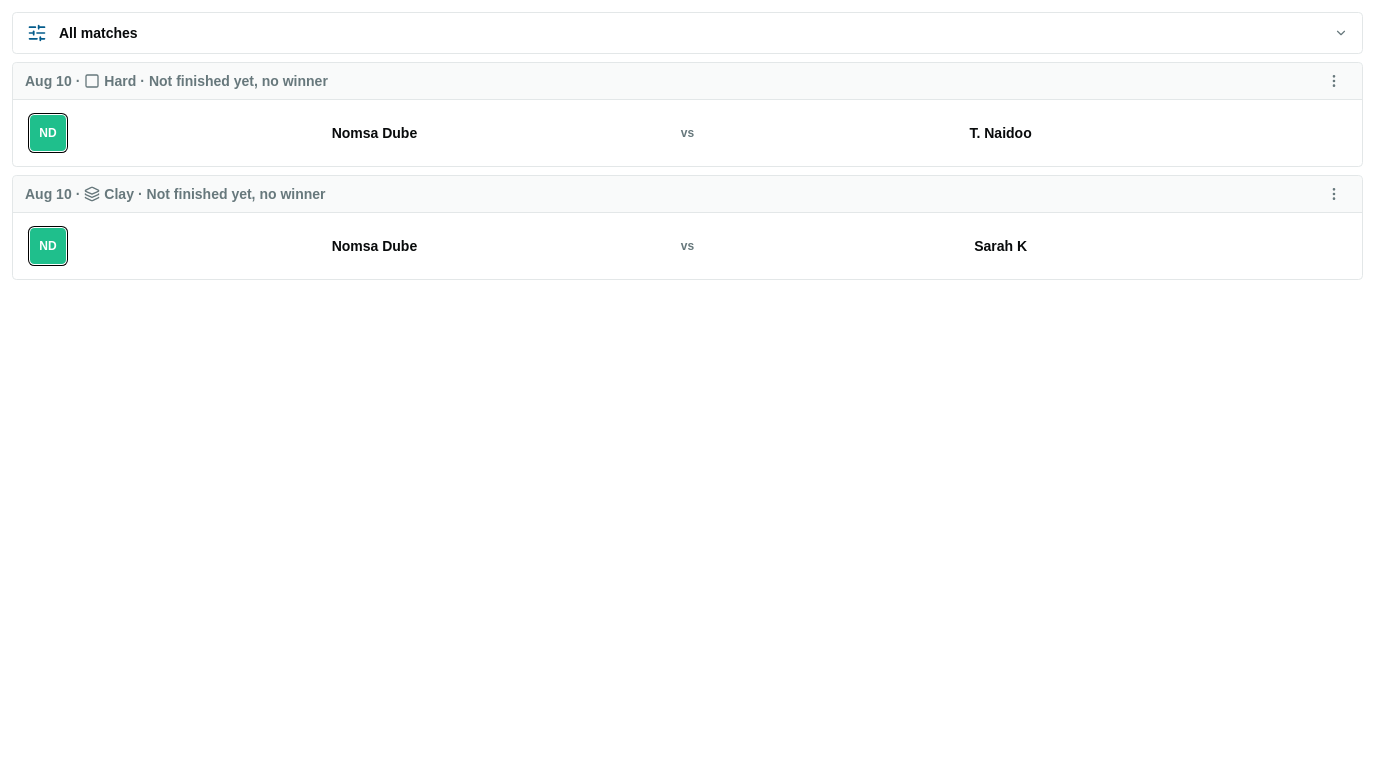
Scenario: clearing filters restores the full list
expect the text "T. Naidoo" is shown: met, box [970,123,1032,143]
Click the button "All matches".
click(98, 33)  # box [12,12,1363,54]
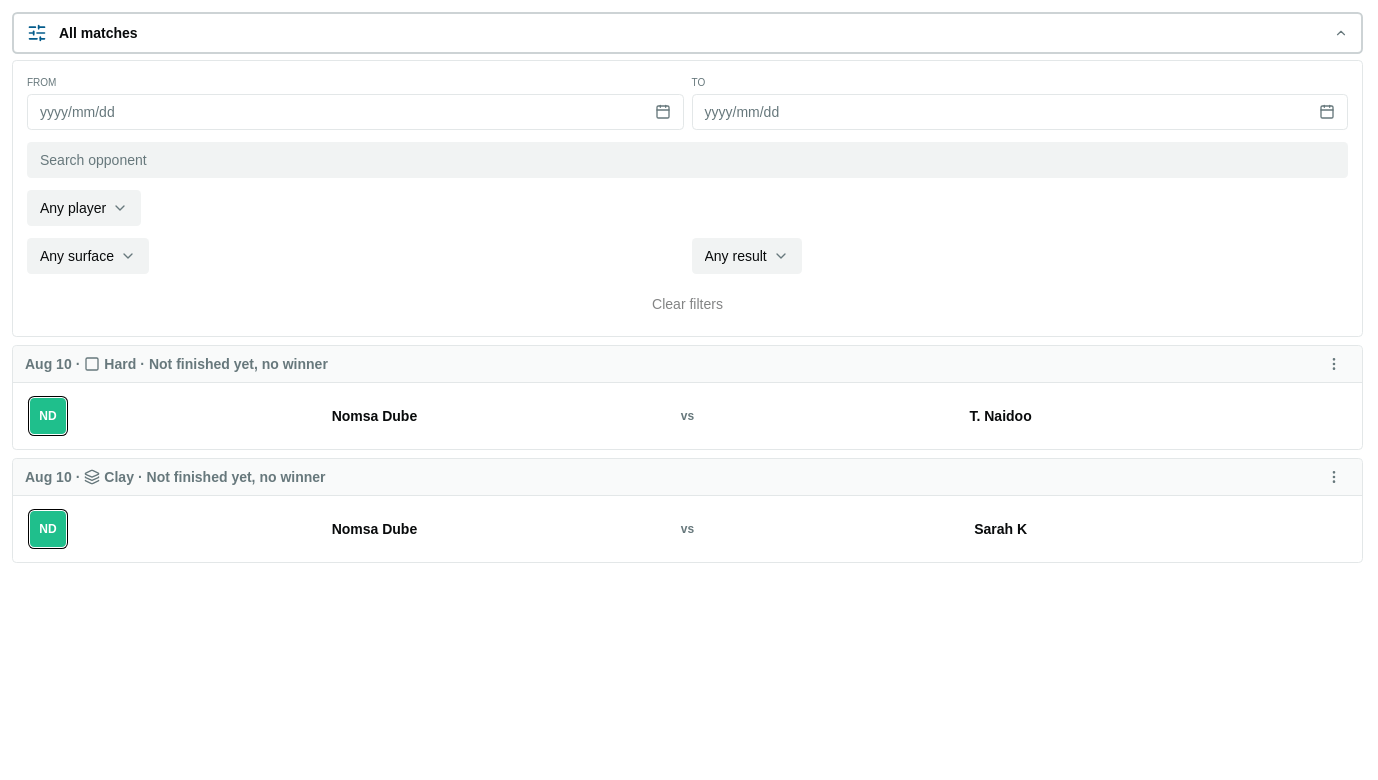
Type "Sarah" into the field with placeholder "Search opponent".
click(688, 160); type("Sarah")  # box [27,142,1348,178]
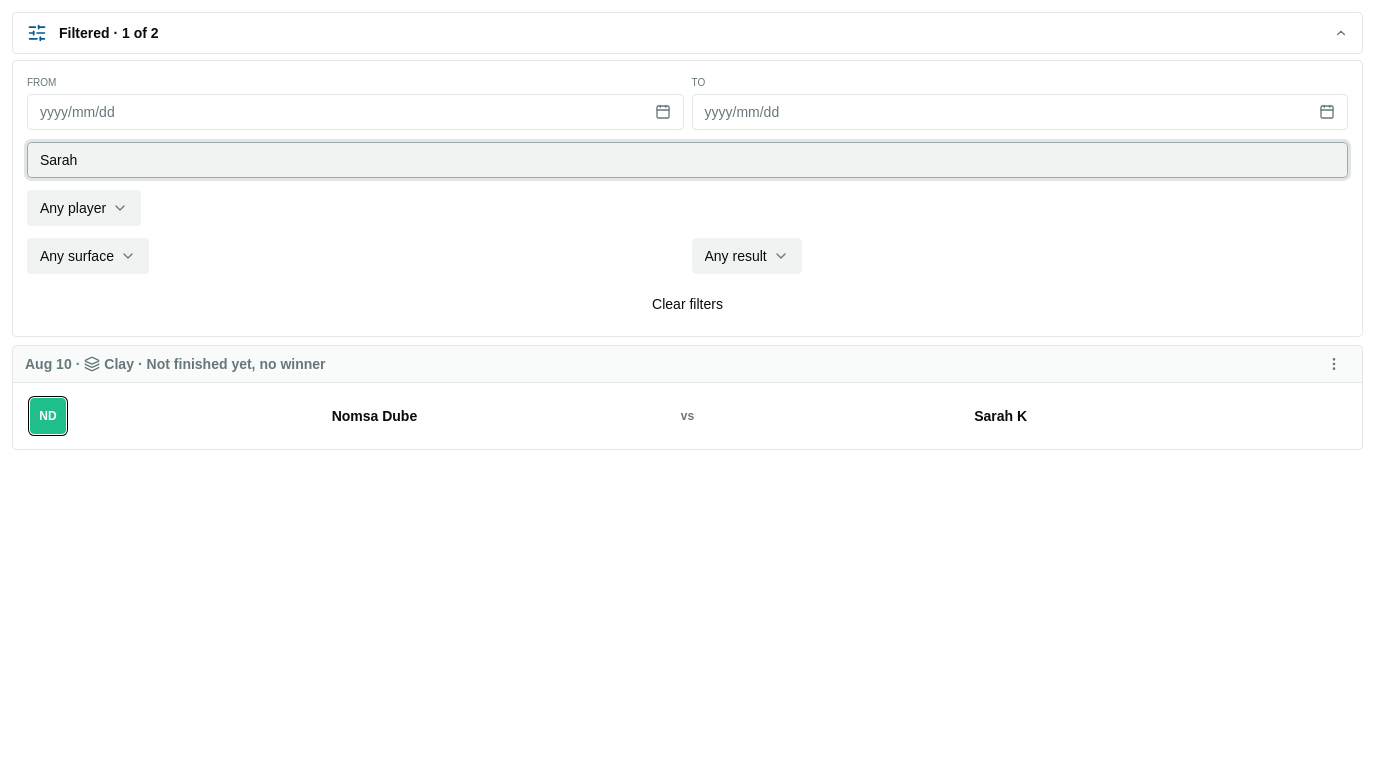
expect the link "T. Naidoo" is gone: met
Click the button "Clear filters".
click(688, 304)  # box [27,286,1348,322]
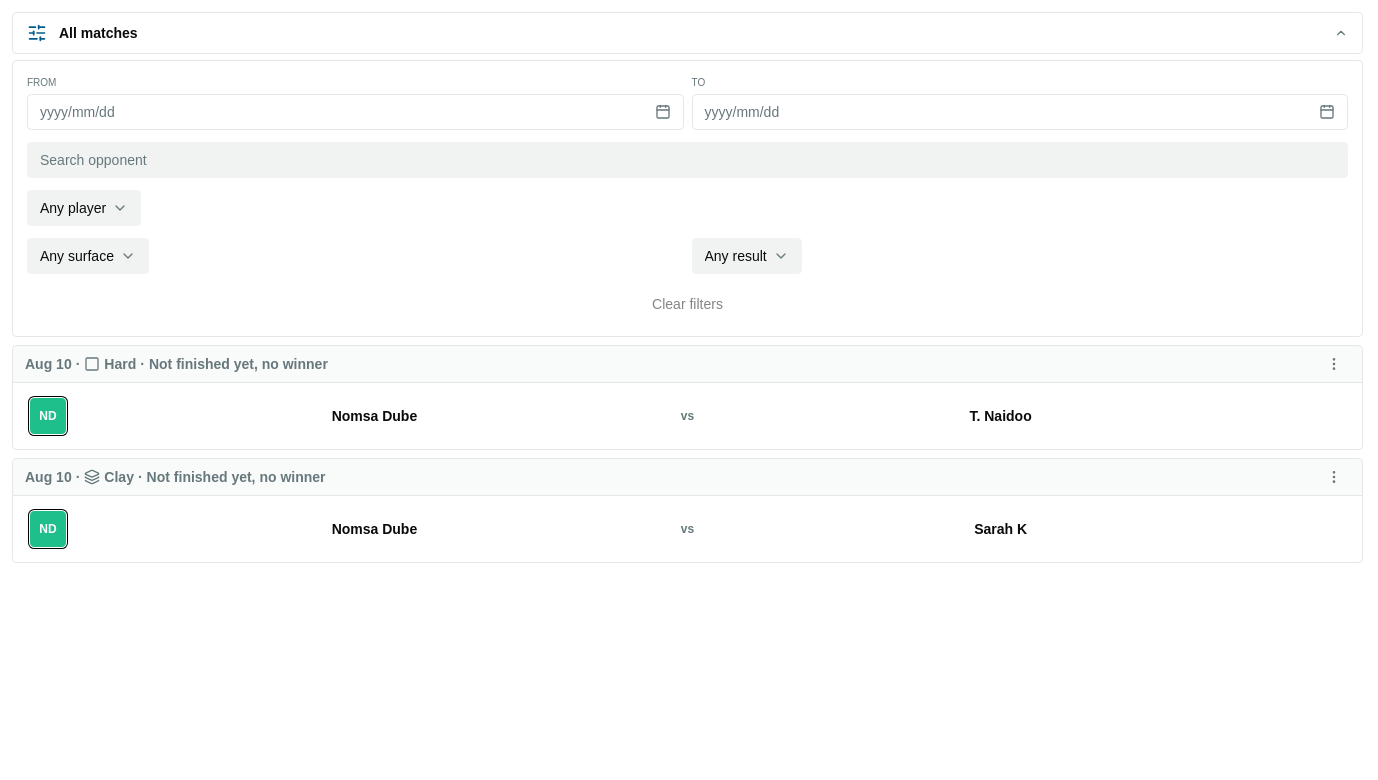
expect the text "Sarah K" is shown: met, box [974,519,1027,539]
expect the text "T. Naidoo" is shown: met, box [970,406,1032,426]
